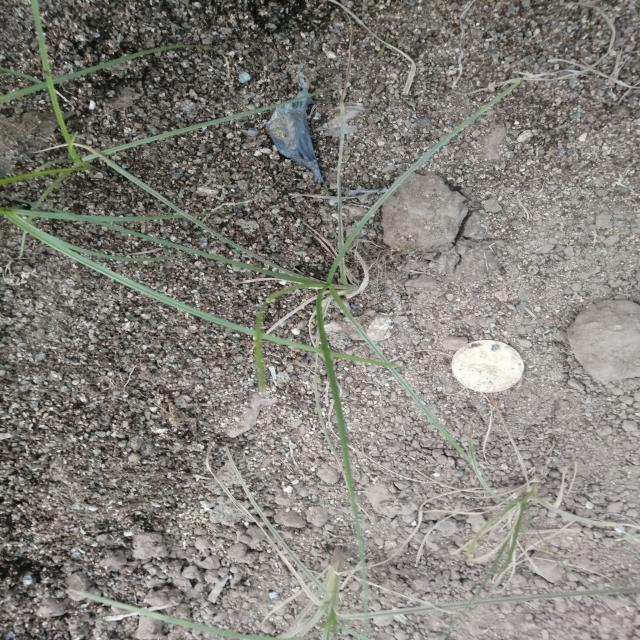sedge: (55, 135, 521, 519)
